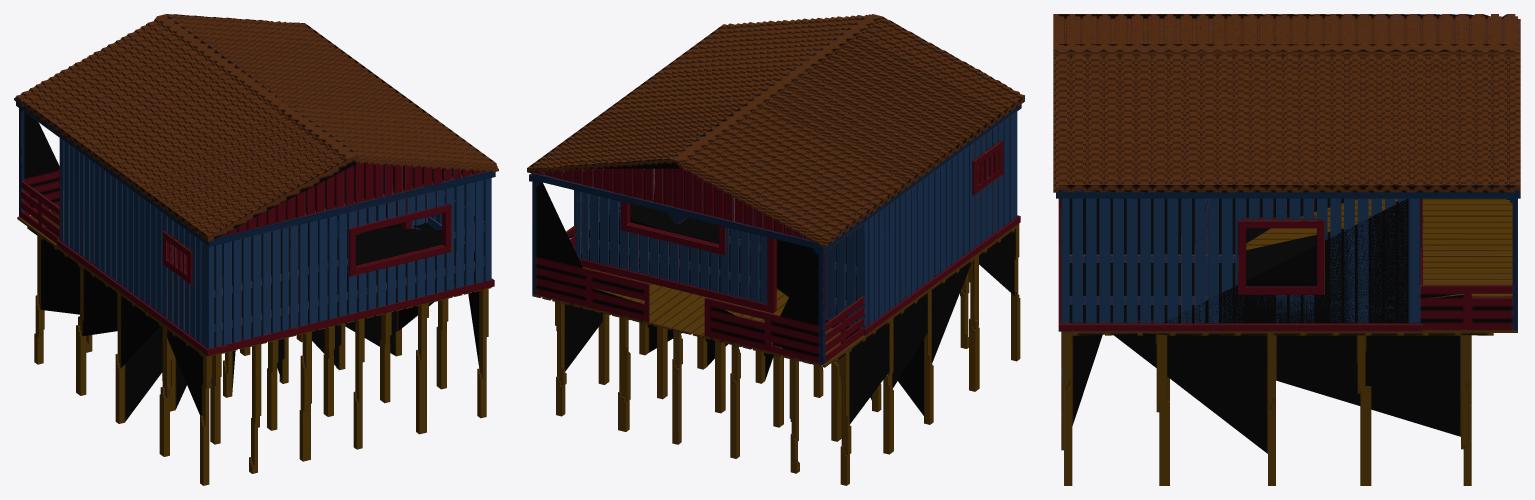
The model's file is Casa-Buri.fbx.
The picture shows the model from 3 angles, left to right: view 1: azimuth 30°, elevation 25°; view 2: azimuth 150°, elevation 25°; view 3: azimuth 270°, elevation 25°; orthographic projection. The views are drawn at different scales.
Visible parts, largest first — view 1: Casa Buri - VersãoNanda-0; view 2: Casa Buri - VersãoNanda-0; view 3: Casa Buri - VersãoNanda-0.
Boxes of the visible parts, x1,y1,x2,y2 form: Casa Buri - VersãoNanda-0: [14, 14, 498, 485]; Casa Buri - VersãoNanda-0: [527, 14, 1024, 485]; Casa Buri - VersãoNanda-0: [1053, 14, 1520, 485].
Size of the model in its own units: 1490 by 1450 by 1720.
